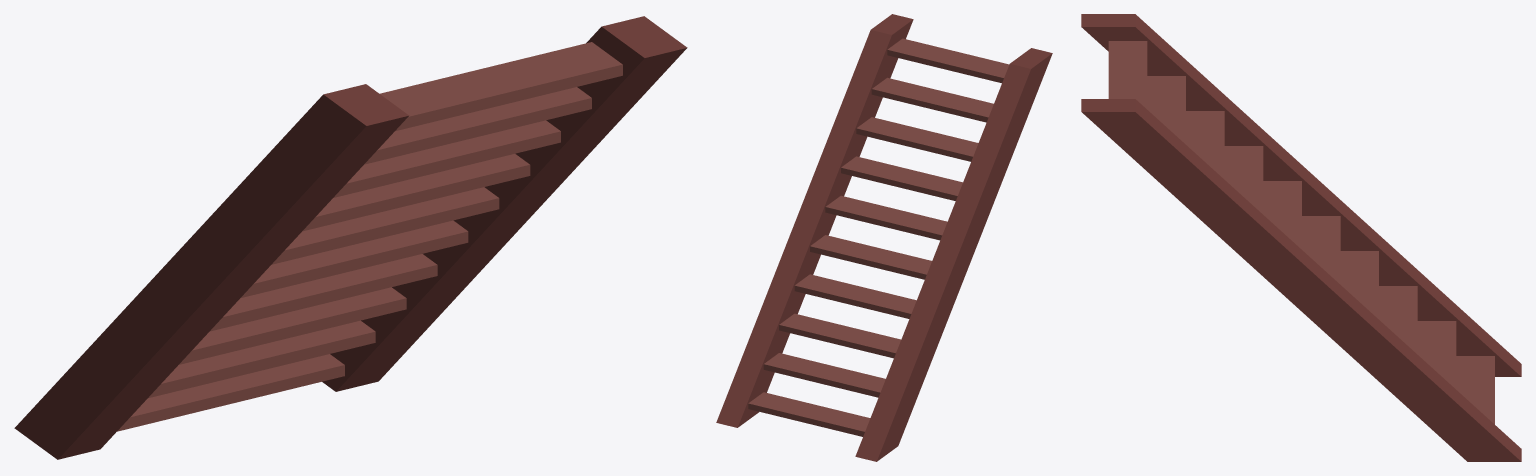
File: Stairs_Big.fbx
3 views of the same model, side by side, from view 1: azimuth 30°, elevation 25°; view 2: azimuth 150°, elevation 25°; view 3: azimuth 270°, elevation 25° (orthographic). The views are drawn at different scales.
Parts seen in each view (by area): view 1: Stairs_Big; view 2: Stairs_Big; view 3: Stairs_Big.
Boxes of the visible parts, x1,y1,x2,y2 form: Stairs_Big: (14, 16, 687, 459); Stairs_Big: (716, 14, 1052, 461); Stairs_Big: (1081, 14, 1521, 461).
Bounding box in the file's own units: 1.2 × 2.28 × 2.
